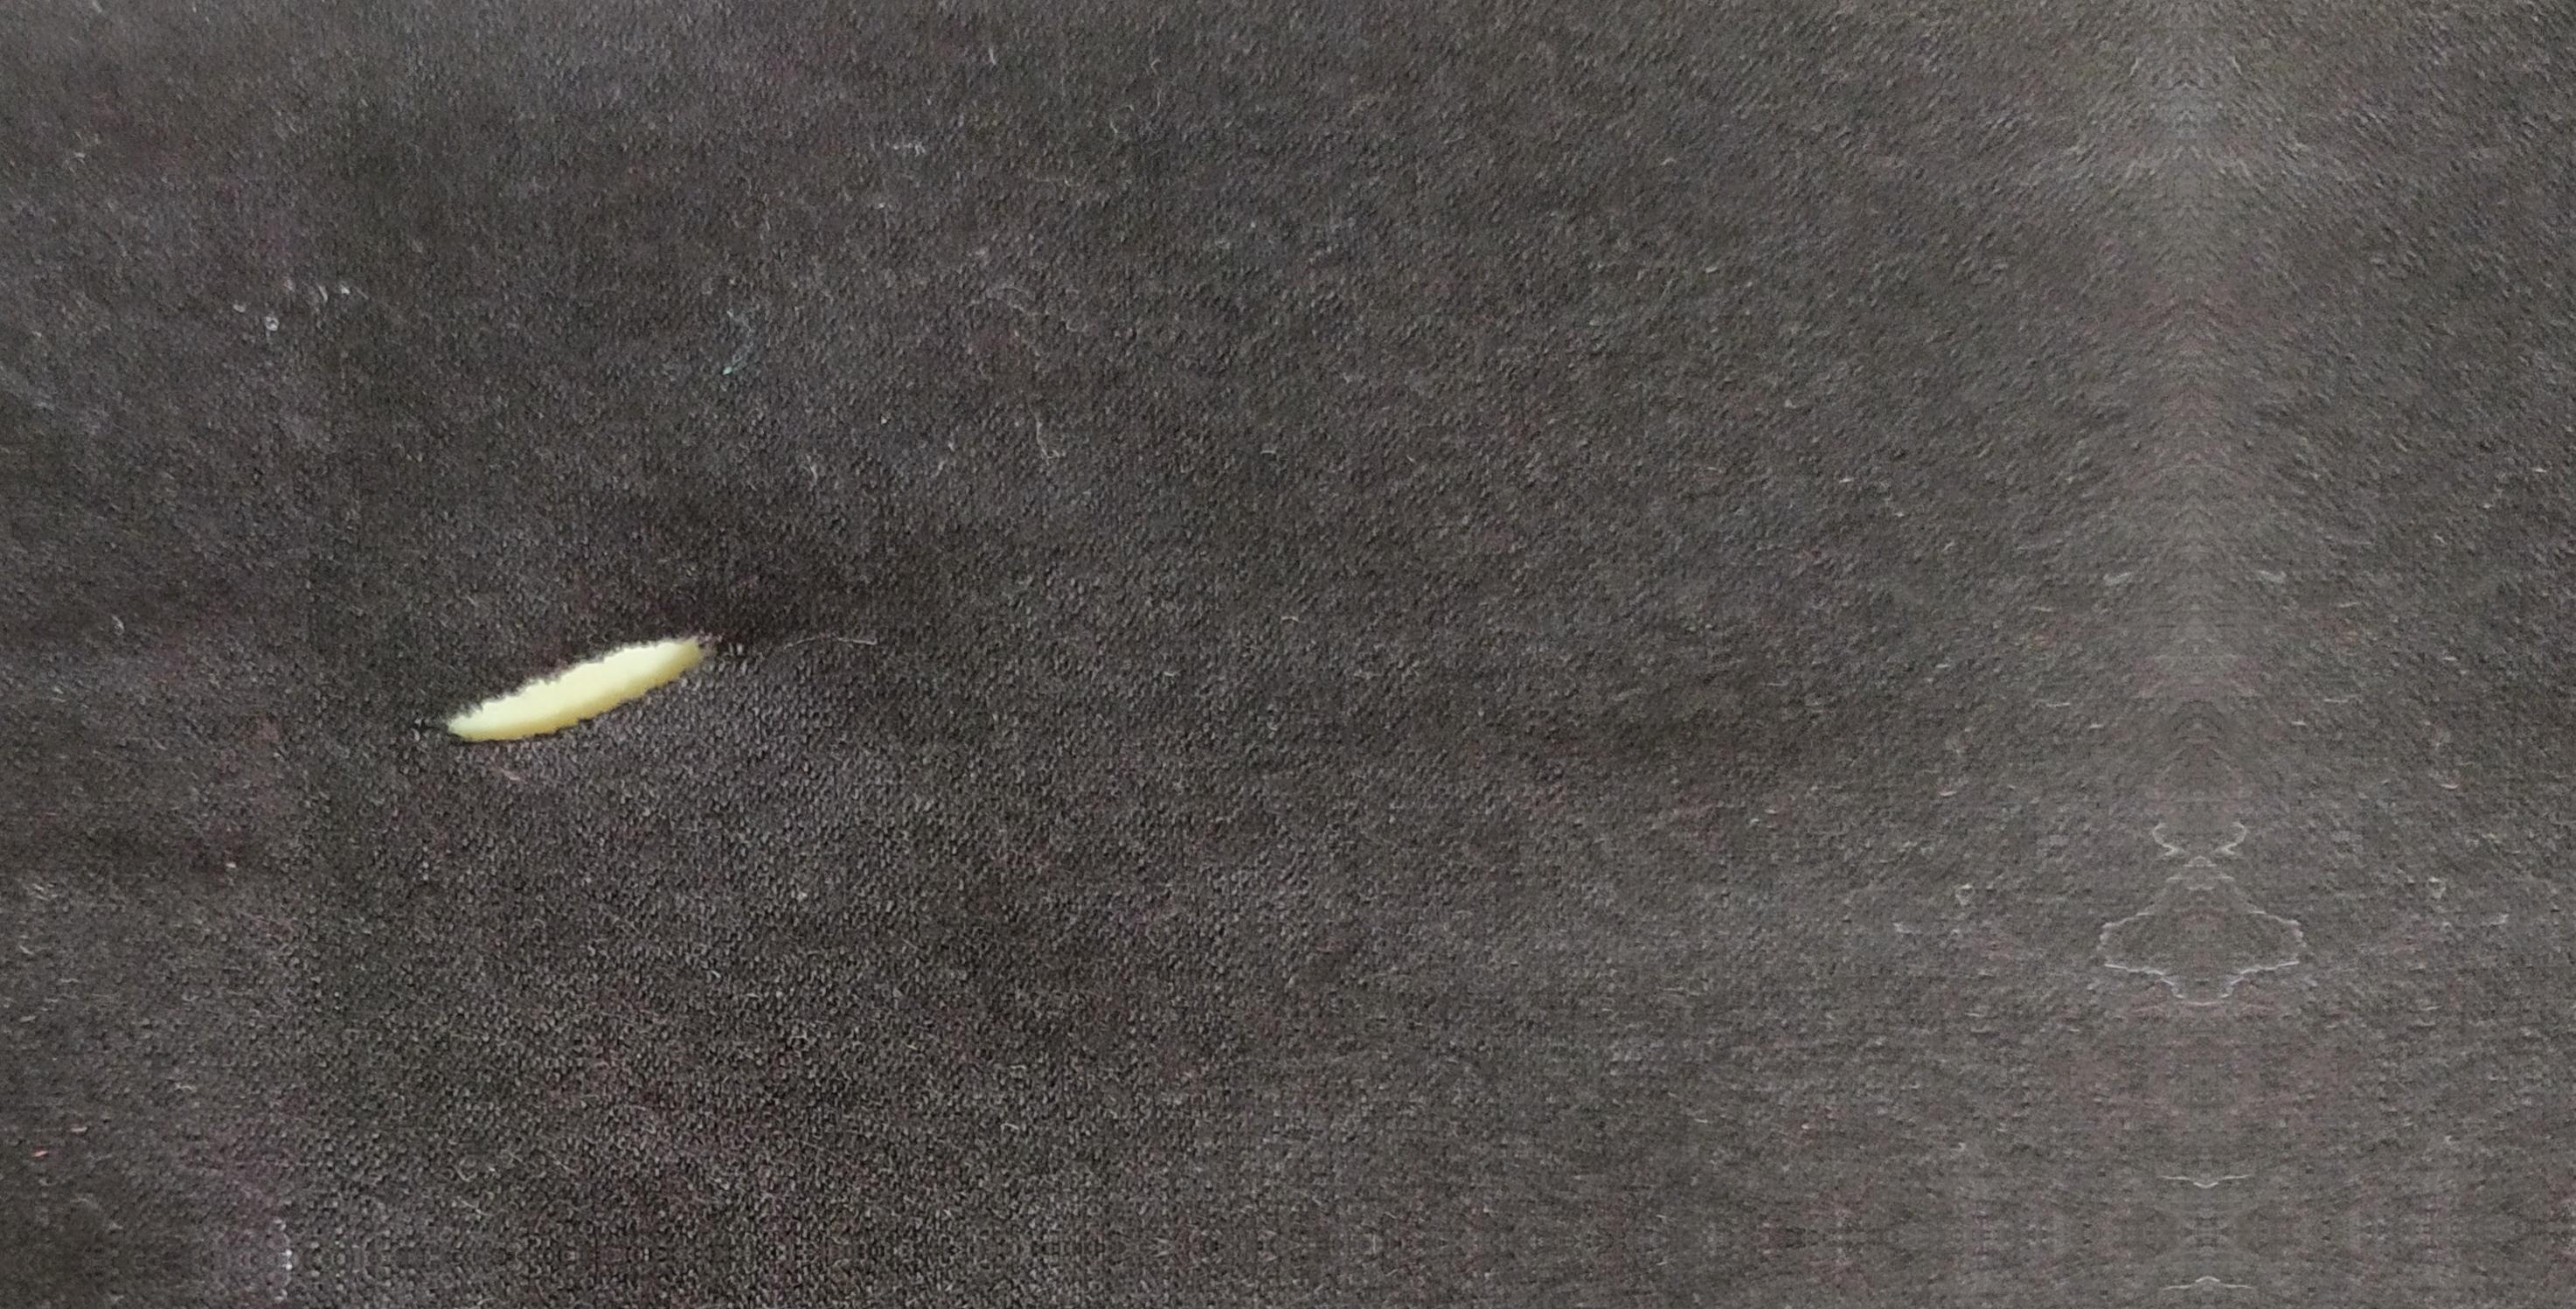hole: (430, 621, 746, 771)
